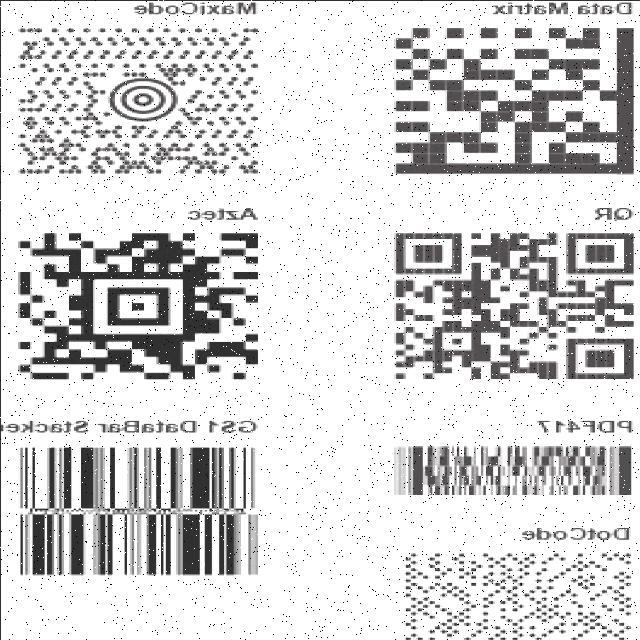datamatrix: (386, 22, 638, 176)
